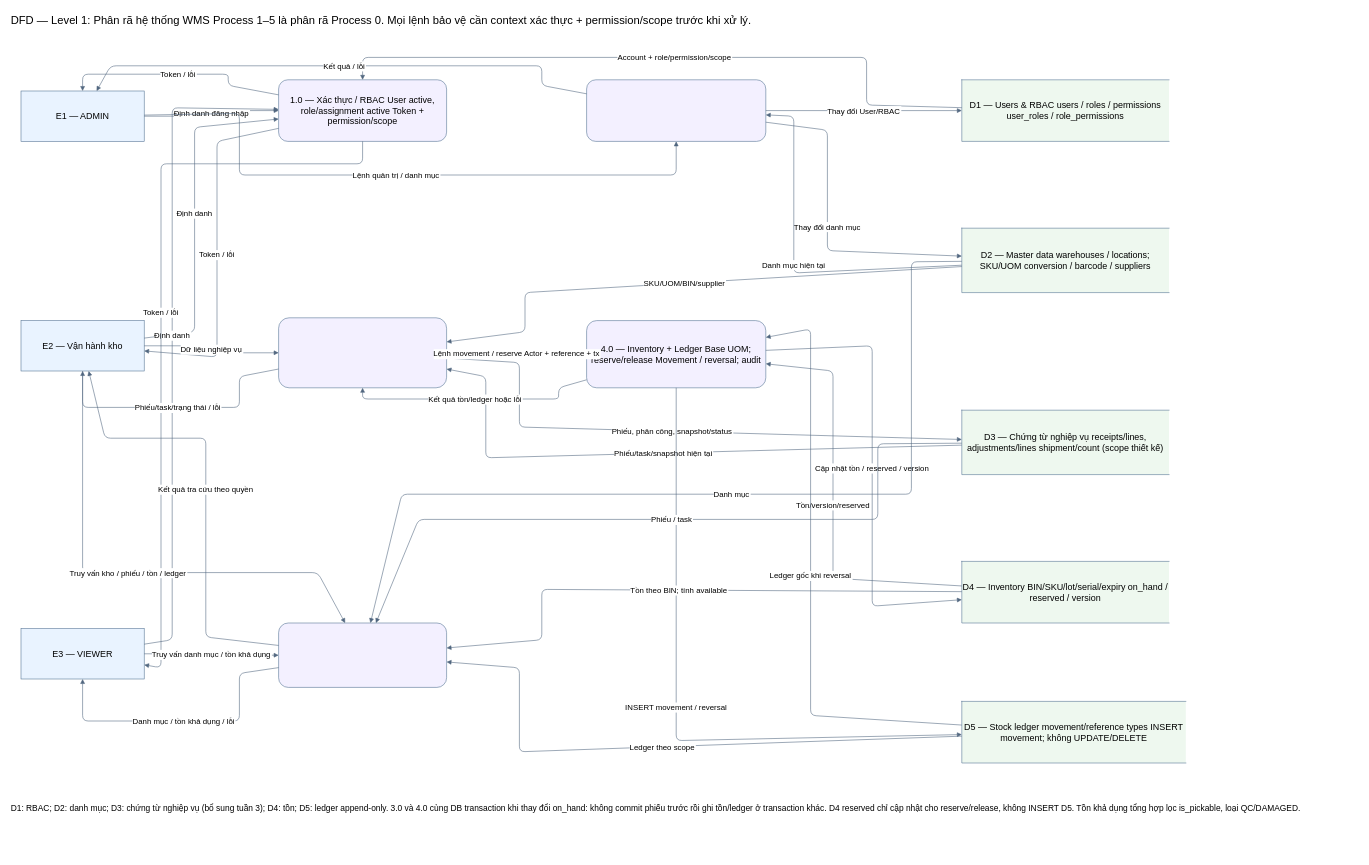
Some shapes in this 1369 by 865 pixel diagram are drawn without their labels. Each missing label, with the box of its shape:
2.0 — Quản trị / danh mục User/RBAC; kho, BIN SKU, UOM, barcode, supplier: (586, 79, 766, 141)
3.0 — Chứng từ / workflow Nhập/cất, xuất, chuyển Kiểm kê, đề xuất/duyệt: (278, 317, 447, 388)
5.0 — Tra cứu / đối soát Danh mục, phiếu/task Tồn theo scope; ledger: (278, 622, 447, 687)
